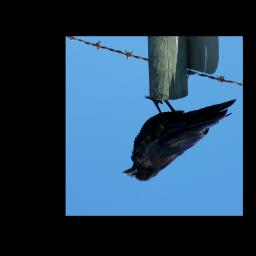Crow: (121, 95, 238, 182)
